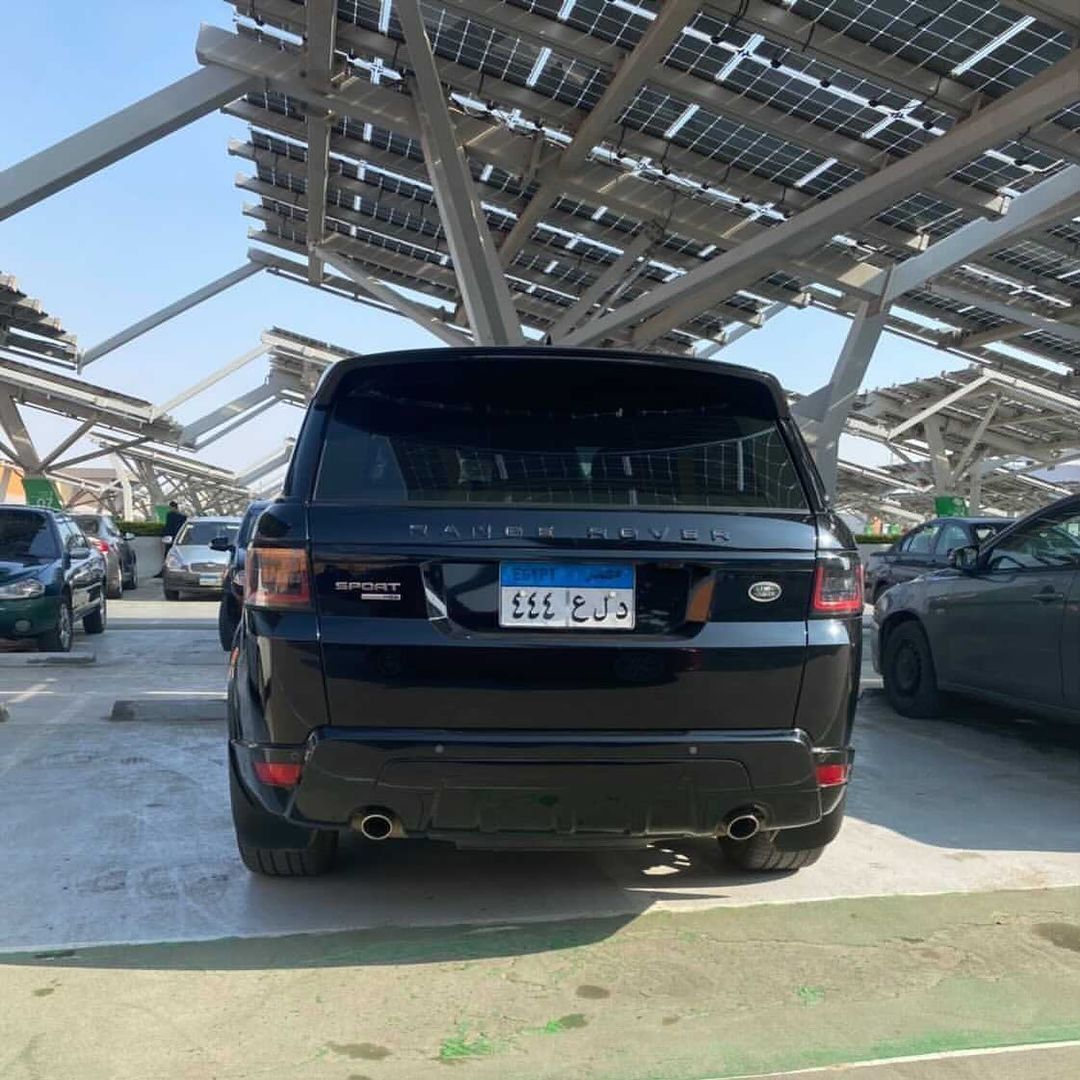carpl: (490, 553, 646, 637)
